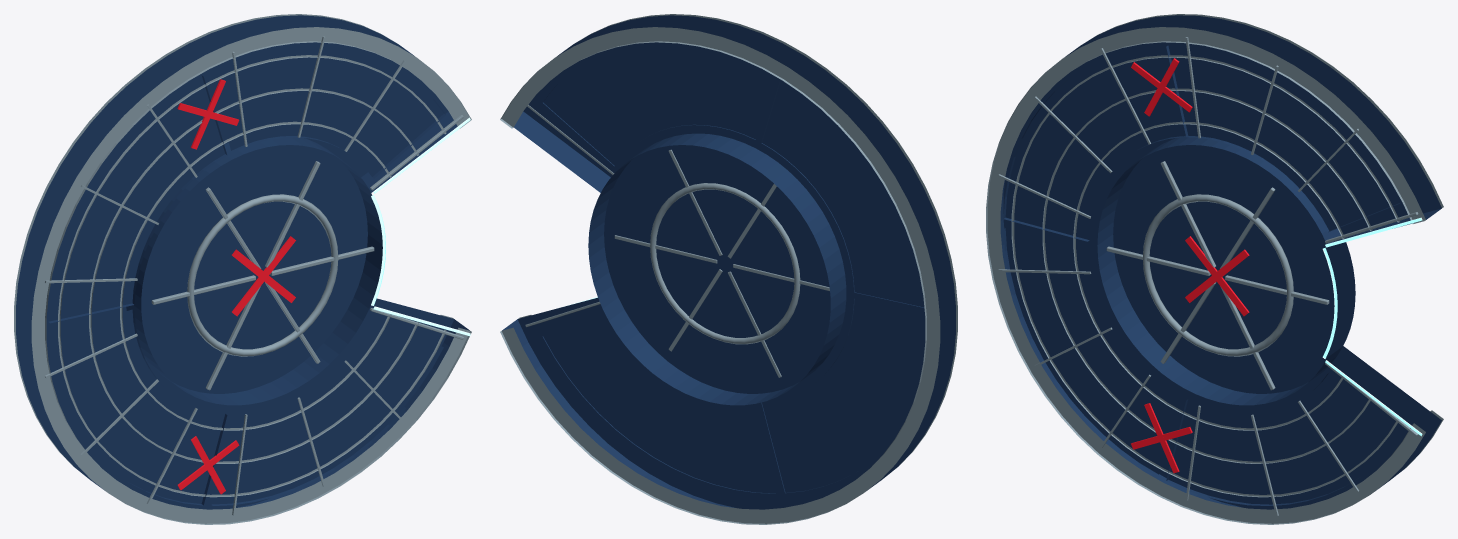
File: foundry-panel-fun7-high.glb
3 views of the same model, side by side, from view 1: azimuth 30°, elevation 25°; view 2: azimuth 150°, elevation 25°; view 3: azimuth 330°, elevation 25° (orthographic).
Parts seen in each view (by area): view 1: RENDER_PANEL_SHELL, RENDER_PANEL_FRAME, RENDER_PANEL_HAZARD, RENDER_PANEL_SIGNAL; view 2: RENDER_PANEL_SHELL, RENDER_PANEL_FRAME; view 3: RENDER_PANEL_SHELL, RENDER_PANEL_FRAME, RENDER_PANEL_HAZARD, RENDER_PANEL_SIGNAL.
Part boxes in pixels (<box>): RENDER_PANEL_SHELL: <box>16,15,469,509</box>; RENDER_PANEL_FRAME: <box>14,14,471,524</box>; RENDER_PANEL_HAZARD: <box>177,79,295,494</box>; RENDER_PANEL_SIGNAL: <box>371,117,470,336</box>; RENDER_PANEL_SHELL: <box>502,15,955,509</box>; RENDER_PANEL_FRAME: <box>500,14,957,524</box>; RENDER_PANEL_SHELL: <box>1000,15,1441,509</box>; RENDER_PANEL_FRAME: <box>986,14,1443,524</box>; RENDER_PANEL_HAZARD: <box>1131,58,1249,473</box>; RENDER_PANEL_SIGNAL: <box>1322,217,1422,436</box>.
Size of what is drawn, in the model's own units: 38.89 by 40.97 by 3.09.
